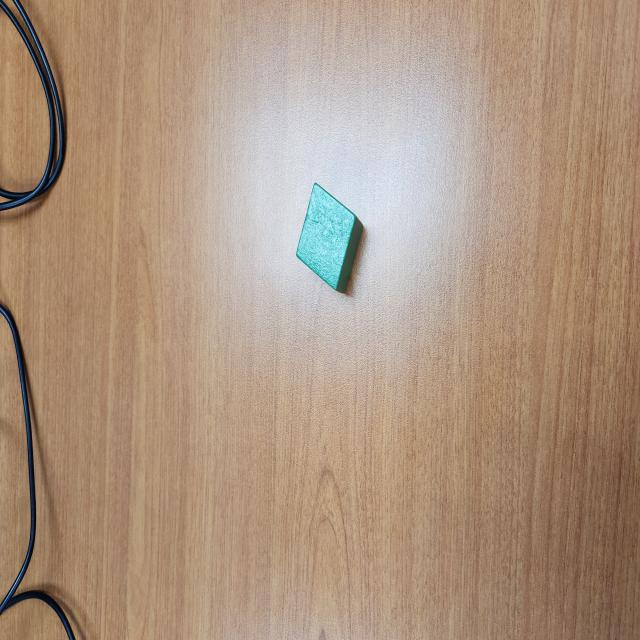green: (297, 183, 364, 294)
